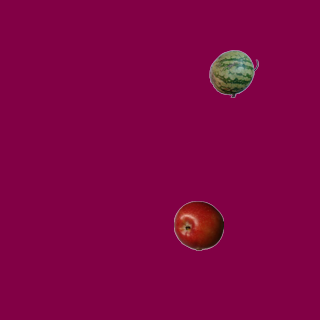Apple Braeburn: (173, 200, 223, 250)
Watermelon: (208, 48, 258, 98)
